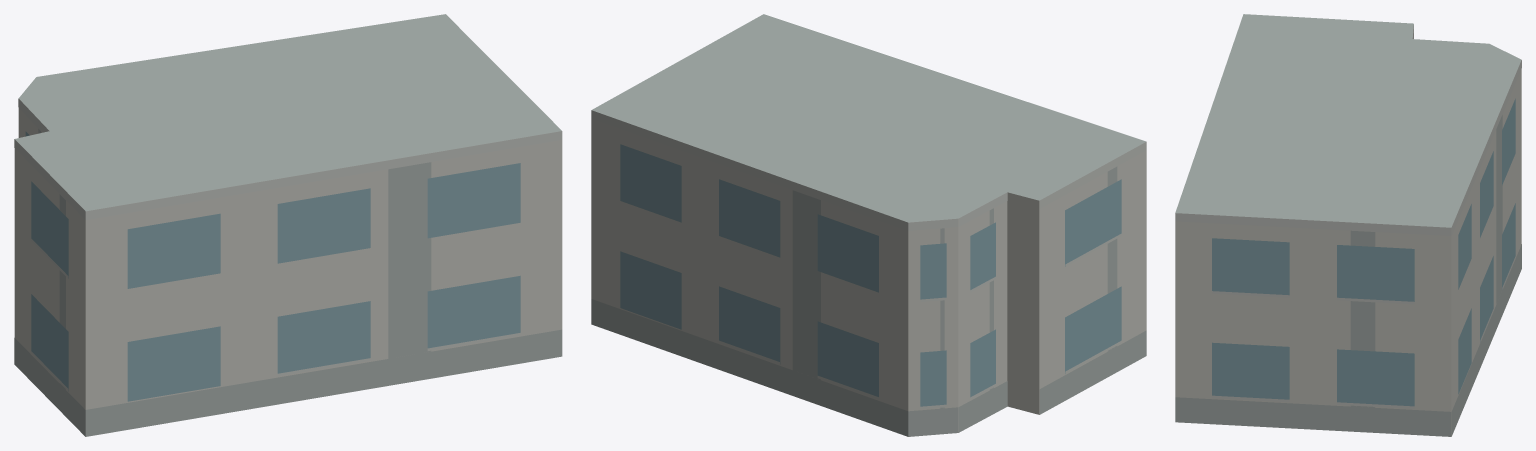
The model's file is residential-050402c6-c2d2-4290-8e82-847efcfa3c18.glb.
The picture shows the model from 3 angles, left to right: view 1: azimuth 30°, elevation 25°; view 2: azimuth 150°, elevation 25°; view 3: azimuth 270°, elevation 25°; orthographic projection. The views are drawn at different scales.
Parts seen in each view (by area): view 1: residential-050402c6-c2d2-4290-8e82-847efcfa3c18.tmp; view 2: residential-050402c6-c2d2-4290-8e82-847efcfa3c18.tmp; view 3: residential-050402c6-c2d2-4290-8e82-847efcfa3c18.tmp.
Part boxes in pixels (box(x1,y1,x2,y2)): residential-050402c6-c2d2-4290-8e82-847efcfa3c18.tmp: box(14, 14, 562, 436); residential-050402c6-c2d2-4290-8e82-847efcfa3c18.tmp: box(591, 14, 1146, 436); residential-050402c6-c2d2-4290-8e82-847efcfa3c18.tmp: box(1175, 14, 1521, 436).
Size of the model in its own units: 13.38 by 6.1 by 9.17.
